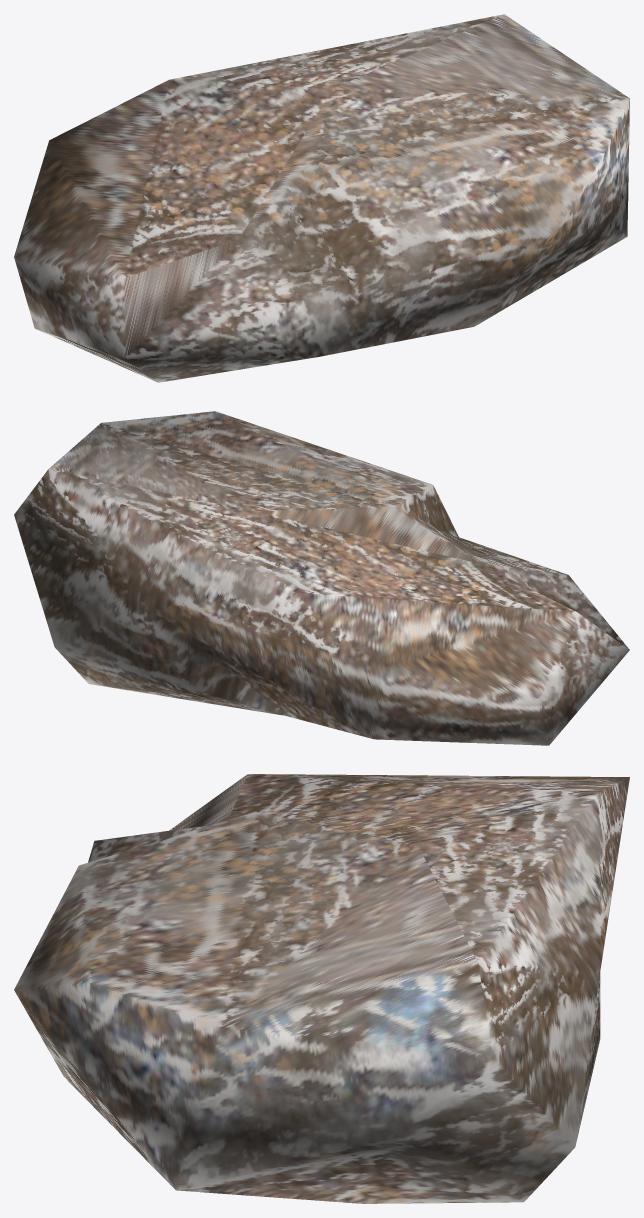
File: SM_pebble_02.fbx
3 renders of one model, top to bottom at view 1: azimuth 30°, elevation 25°; view 2: azimuth 150°, elevation 25°; view 3: azimuth 270°, elevation 25°, orthographic. The views are drawn at different scales.
Parts seen in each view (by area): view 1: SM_pebble_02_LOD0; view 2: SM_pebble_02_LOD0; view 3: SM_pebble_02_LOD0.
Boxes of the visible parts, <box> form: SM_pebble_02_LOD0: <box>14,14,629,382</box>; SM_pebble_02_LOD0: <box>14,411,629,745</box>; SM_pebble_02_LOD0: <box>14,774,629,1203</box>.
Bounding box in the file's own units: 12.51 × 8.77 × 4.79.
1 material, 1 textured.
